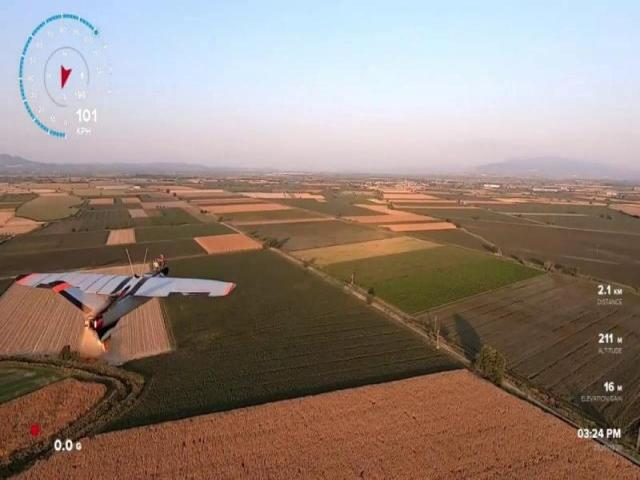hedef: (9, 251, 247, 364)
